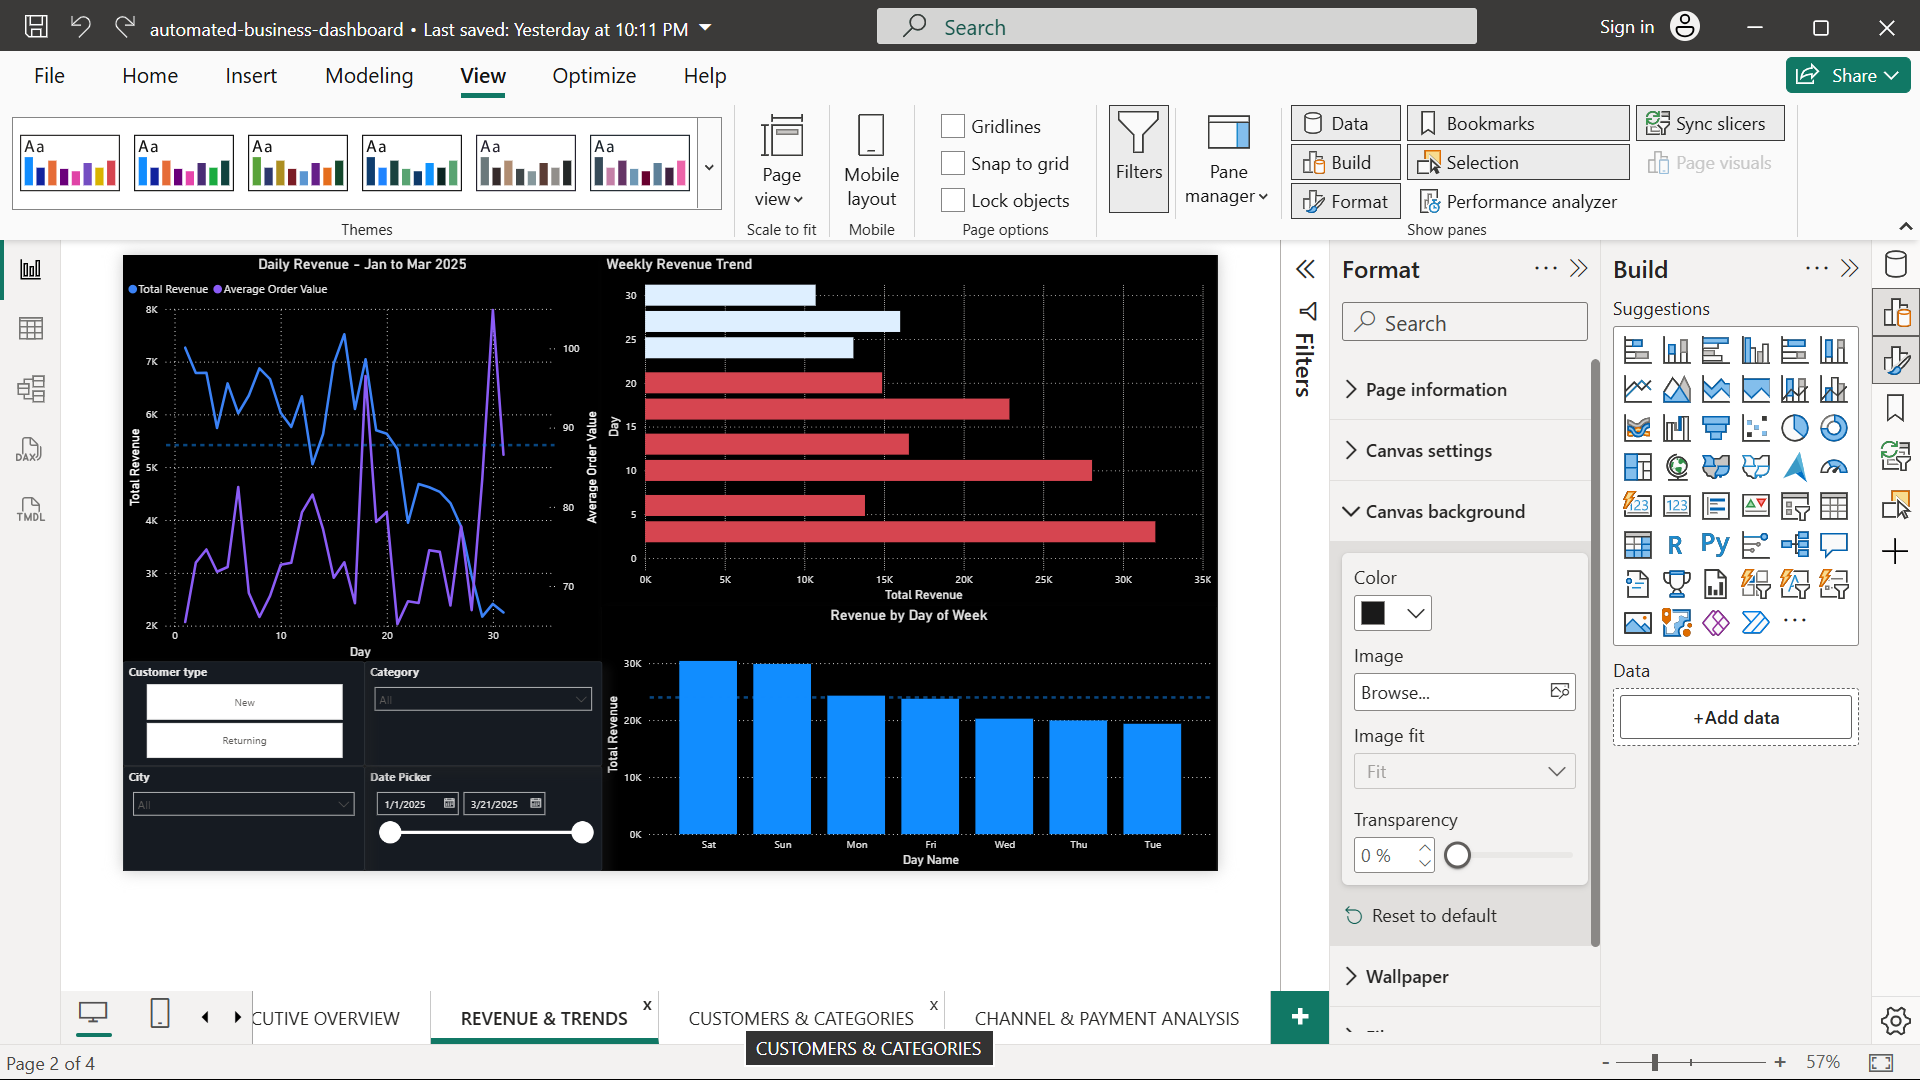

Layout of this report page (visuals, bound fields, positions):
{"tool":"powerbi","page":{"name":"REVENUE & TRENDS","canvas":[1280,720],"ordinal":1},"visuals":[{"type":"lineChart","title":"Daily Revenue - Jan to Mar 2025","fields":{"Category":["Calendar.Date.Variation.Date Hierarchy.Day"],"Y":["Calendar.Total Revenue"],"Y2":["Calendar.Average Order Value"]},"box":[0,0,560.3,476.2],"z":0},{"type":"clusteredBarChart","title":"Weekly Revenue Trend","fields":{"Category":["Calendar.Week Start.Variation.Date Hierarchy.Day"],"Y":["Calendar.Total Revenue"]},"box":[560.3,0,719,411.1],"z":1000},{"type":"clusteredColumnChart","title":"Revenue by Day of Week","fields":{"Category":["Calendar.Day Name"],"Y":["Calendar.Total Revenue"]},"box":[560.3,411.1,719,309.5],"z":2000},{"type":"slicer","title":"Date Picker","fields":{"Values":["Calendar.Date"]},"box":[282.5,598.4,277.8,122.2],"z":3000},{"type":"slicer","title":"Category","fields":{"Values":["ecommerce_data.category"]},"box":[282.5,476.2,277.8,122.2],"z":4000},{"type":"slicer","title":"Customer type","fields":{"Values":["ecommerce_data.customer_type"]},"box":[0,476.2,282.5,122.2],"z":5000},{"type":"slicer","title":"City","fields":{"Values":["ecommerce_data.city"]},"box":[0,598.4,282.5,122.2],"z":6000}]}

Visuals, with their boxes on the page's 1280x720 design canvas (x1, y1, x2, y2). These are canvas units, not pixel positions in the 1920x1080 screenshot, which may show the page scaled, cropped or inside an application window:
"Daily Revenue - Jan to Mar 2025" lineChart: x1=0 y1=0 x2=560 y2=476
"Weekly Revenue Trend" clusteredBarChart: x1=560 y1=0 x2=1279 y2=411
"Revenue by Day of Week" clusteredColumnChart: x1=560 y1=411 x2=1279 y2=721
"Date Picker" slicer: x1=282 y1=598 x2=560 y2=721
"Category" slicer: x1=282 y1=476 x2=560 y2=598
"Customer type" slicer: x1=0 y1=476 x2=282 y2=598
"City" slicer: x1=0 y1=598 x2=282 y2=721
